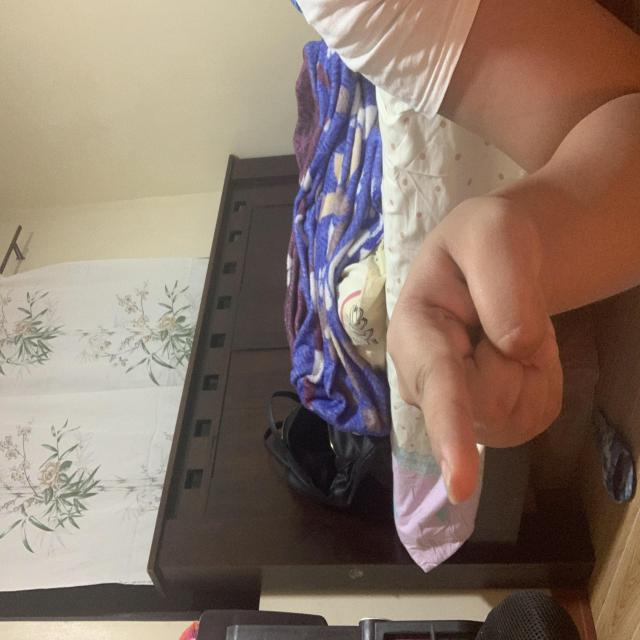Z: (200, 384, 506, 565)
